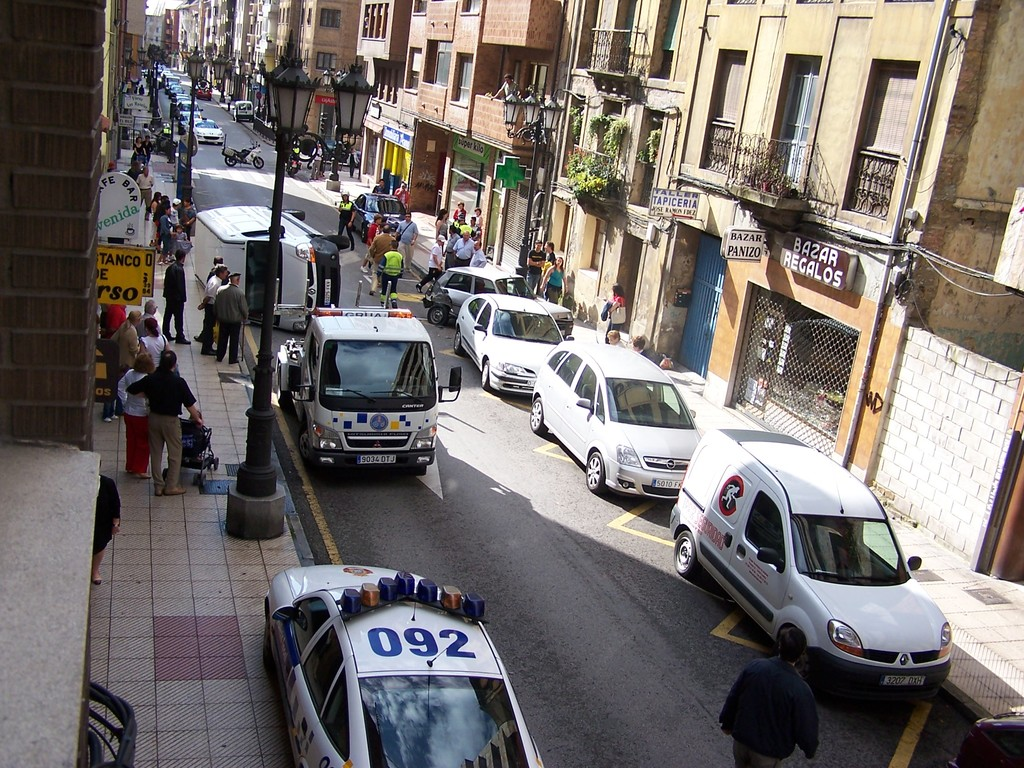car: (660, 405, 985, 715), (240, 539, 567, 768), (520, 318, 711, 512), (274, 290, 457, 484), (195, 169, 356, 333), (451, 287, 572, 404), (423, 247, 583, 335)
